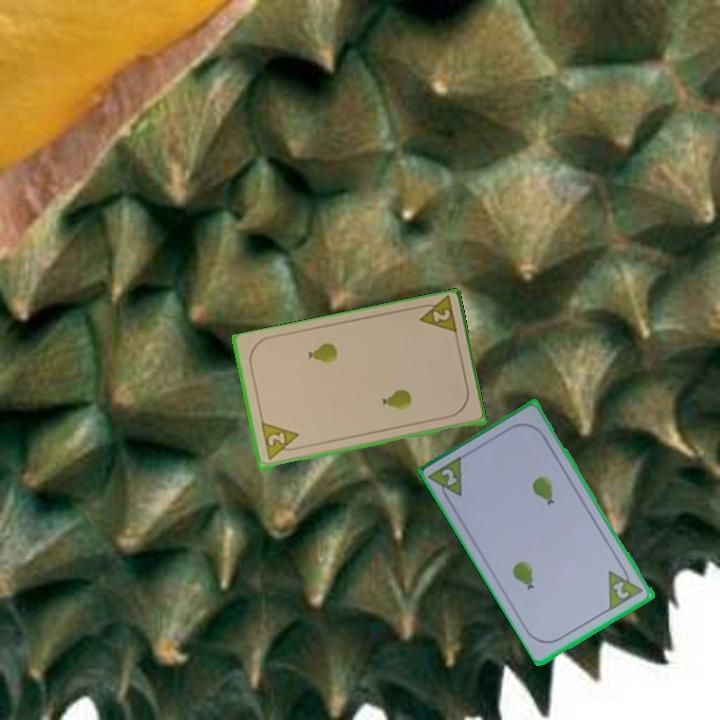2p: (605, 560, 647, 613), (426, 452, 466, 507), (412, 294, 460, 339), (257, 420, 303, 463)
